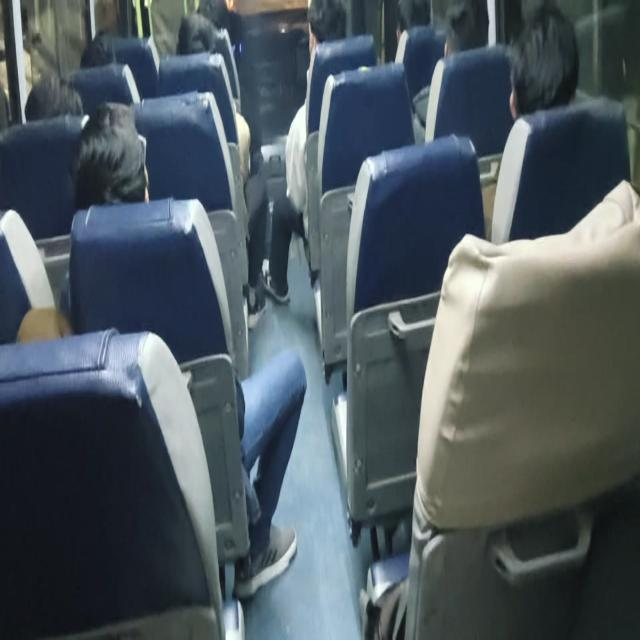person: (496, 14, 578, 121), (83, 114, 155, 213), (431, 8, 485, 60), (28, 74, 76, 124), (298, 3, 349, 50), (181, 19, 219, 55), (80, 32, 122, 64)
